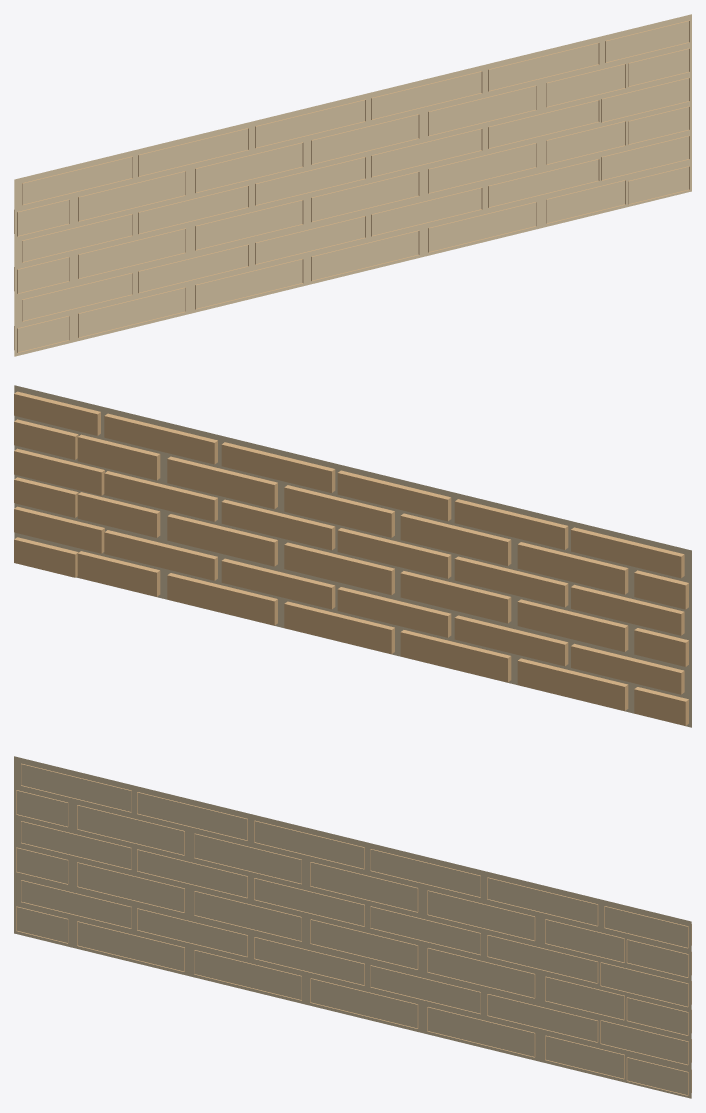
Rendered from BaksteenMuur03_LOD0.fbx.
The picture shows the model from 3 angles, top to bottom: view 1: azimuth 30°, elevation 25°; view 2: azimuth 150°, elevation 25°; view 3: azimuth 330°, elevation 25°; orthographic projection.
Parts seen in each view (by area): view 1: BaksteenMuur03_LOD0; view 2: BaksteenMuur03_LOD0; view 3: BaksteenMuur03_LOD0.
Part boxes in pixels (left/top/right/bottom): BaksteenMuur03_LOD0: left=14, top=14, right=691, bottom=356; BaksteenMuur03_LOD0: left=14, top=385, right=691, bottom=727; BaksteenMuur03_LOD0: left=14, top=756, right=691, bottom=1098.
Size of the model in its own units: 4 by 1 by 0.0401.
